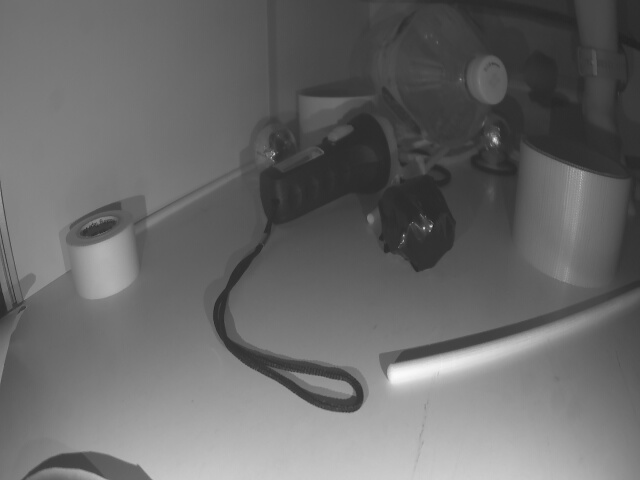Dead: (380, 175, 454, 269)
Live: (252, 116, 298, 177), (477, 113, 511, 161)
